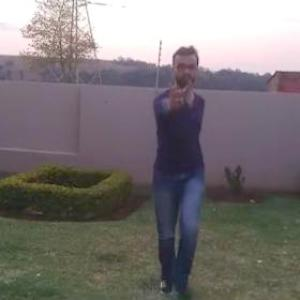takeoff-hand: (160, 71, 192, 110)
